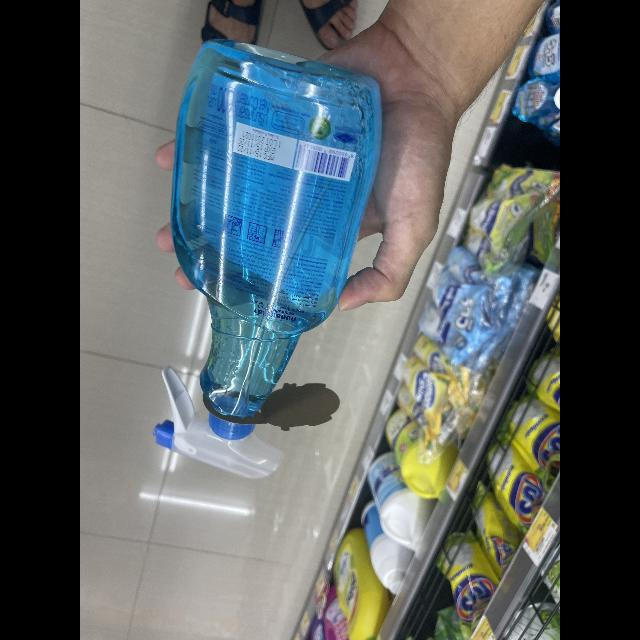chemical_plastic_bottle: (154, 42, 384, 484)
